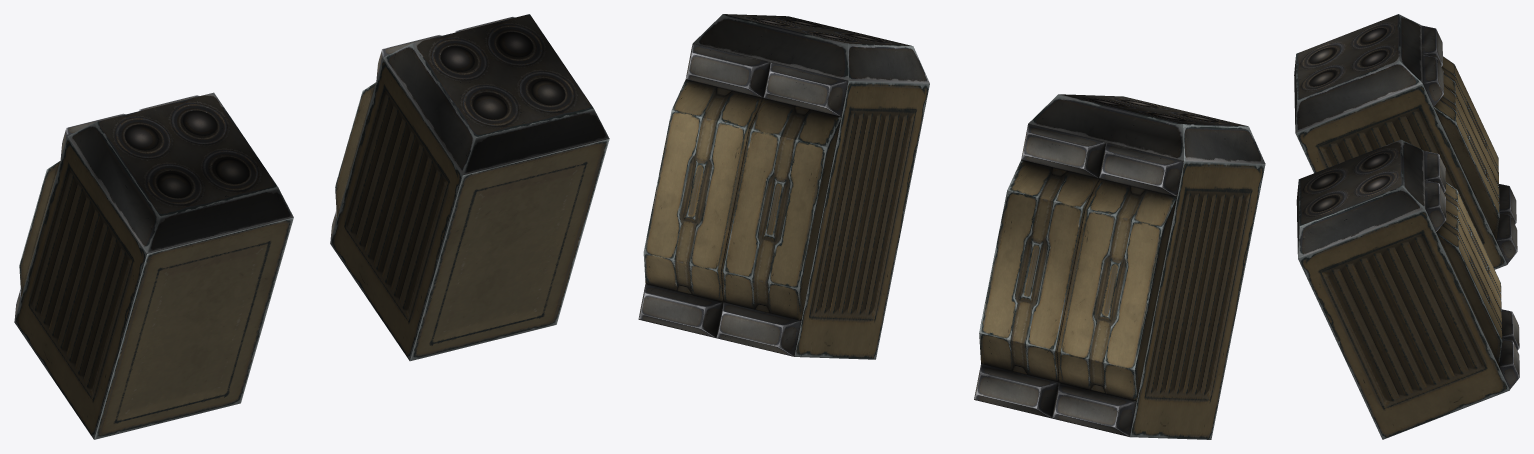
Rendered from Mech01_Pro.FBX.
3 renders of one model, left to right at view 1: azimuth 30°, elevation 25°; view 2: azimuth 150°, elevation 25°; view 3: azimuth 270°, elevation 25°, orthographic. The views are drawn at different scales.
Parts seen in each view (by area): view 1: Aider01; view 2: Aider01; view 3: Aider01.
Boxes of the visible parts, x1,y1,x2,y2 form: Aider01: (14, 14, 609, 439); Aider01: (638, 14, 1265, 439); Aider01: (1294, 14, 1519, 439).
Size of the model in its own units: 898 by 562 by 464.
